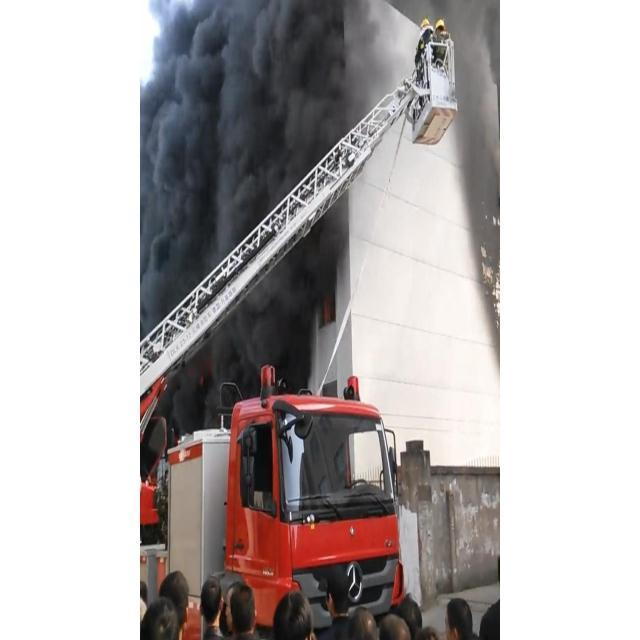Smoke: (140, 0, 500, 464)
